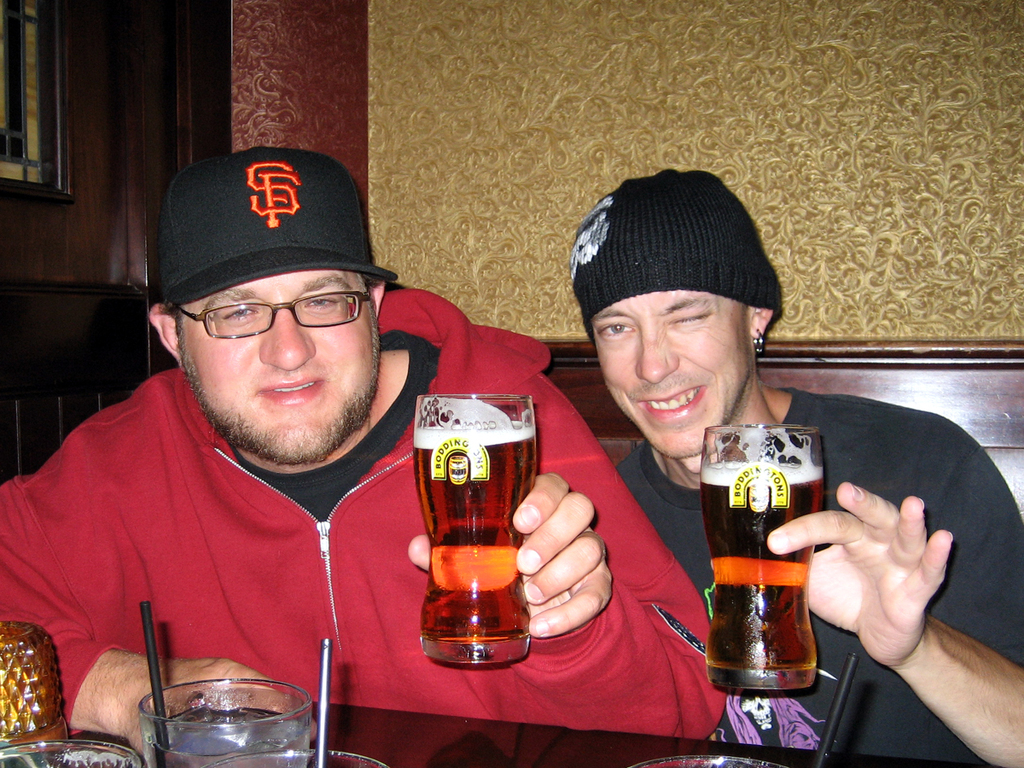Beer: (414, 394, 537, 665), (699, 466, 817, 686)
